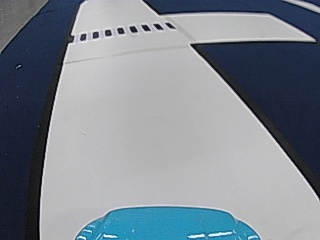CrossWalk: (73, 21, 174, 42)
